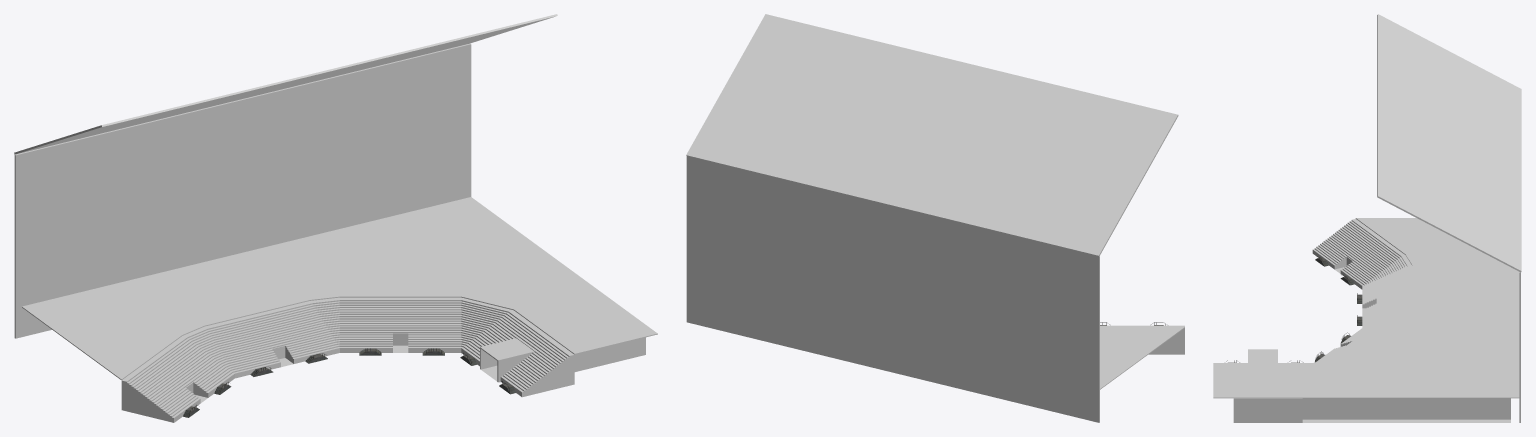
Rendered from WholeMap.fbx.
3 views of the same model, side by side, from view 1: azimuth 30°, elevation 25°; view 2: azimuth 150°, elevation 25°; view 3: azimuth 270°, elevation 25° (orthographic). The views are drawn at different scales.
Visible parts, largest first — view 1: Wall, Stand_celing, Stand_body, Celing, FinalHall; view 2: Wall, Celing, Stand_celing, Stand_body; view 3: Stand_celing, Celing, Stand_body, Hall, FinalHall, RestroomHall, 0.Floor, Wall.
Part boxes in pixels (bbox=[...]): Wall: bbox=[14, 43, 471, 338]; Stand_celing: bbox=[22, 197, 657, 380]; Stand_body: bbox=[121, 297, 574, 422]; Celing: bbox=[14, 14, 557, 154]; FinalHall: bbox=[574, 337, 645, 371]; Wall: bbox=[686, 156, 1099, 422]; Celing: bbox=[686, 14, 1178, 256]; Stand_celing: bbox=[1100, 327, 1184, 389]; Stand_body: bbox=[1100, 325, 1184, 354]; Stand_celing: bbox=[1213, 218, 1519, 398]; Celing: bbox=[1377, 14, 1521, 272]; Stand_body: bbox=[1213, 219, 1412, 364]; Hall: bbox=[1302, 398, 1455, 419]; FinalHall: bbox=[1233, 398, 1302, 422]; RestroomHall: bbox=[1456, 398, 1510, 419]; 0.Floor: bbox=[1302, 419, 1510, 422]; Wall: bbox=[1519, 272, 1520, 422].
Bounding box in the file's own units: 15620 × 9052 × 11164.
